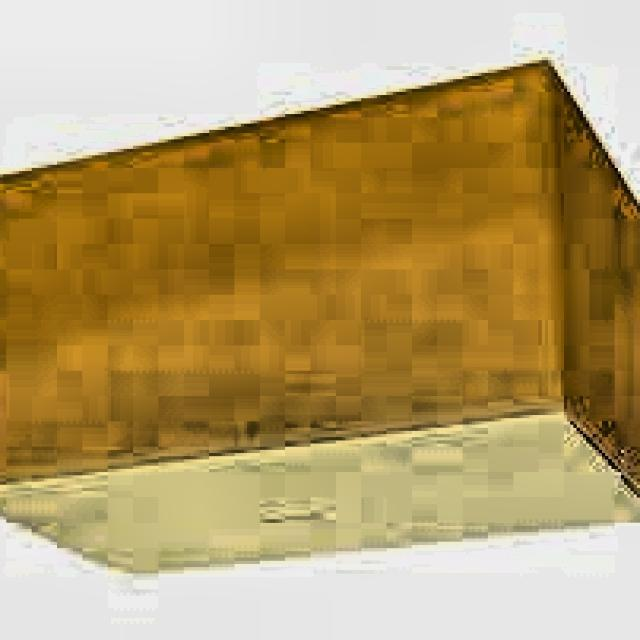cardboard: (0, 60, 640, 580)
